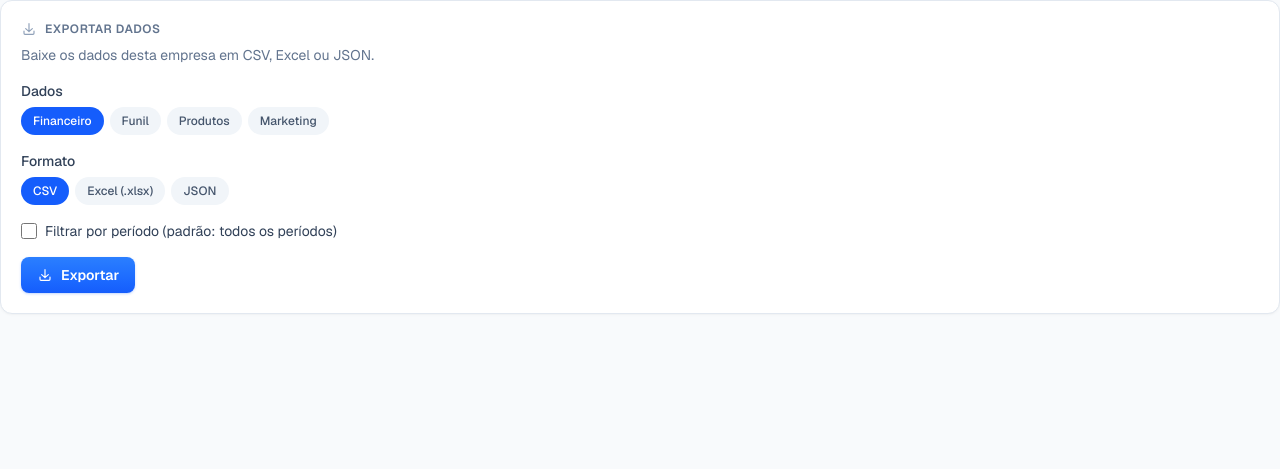
Test: ExportPanel › bloqueia quando a data inicial é depois da data final
The image size is (1280, 469).
Click the checkbox labelled "Filtrar por período (padrão: todos os períodos)".
click(29, 231)  # box [21, 223, 37, 239]
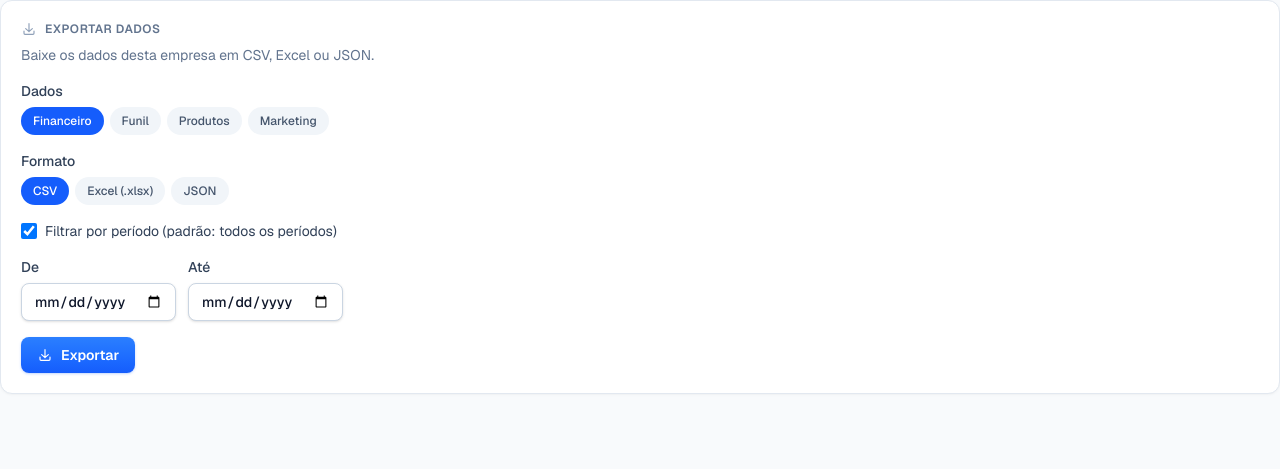
Type "2026-12-31" into the date field labelled "De".
click(98, 302); type("2026-12-31")  # box [21, 283, 176, 321]
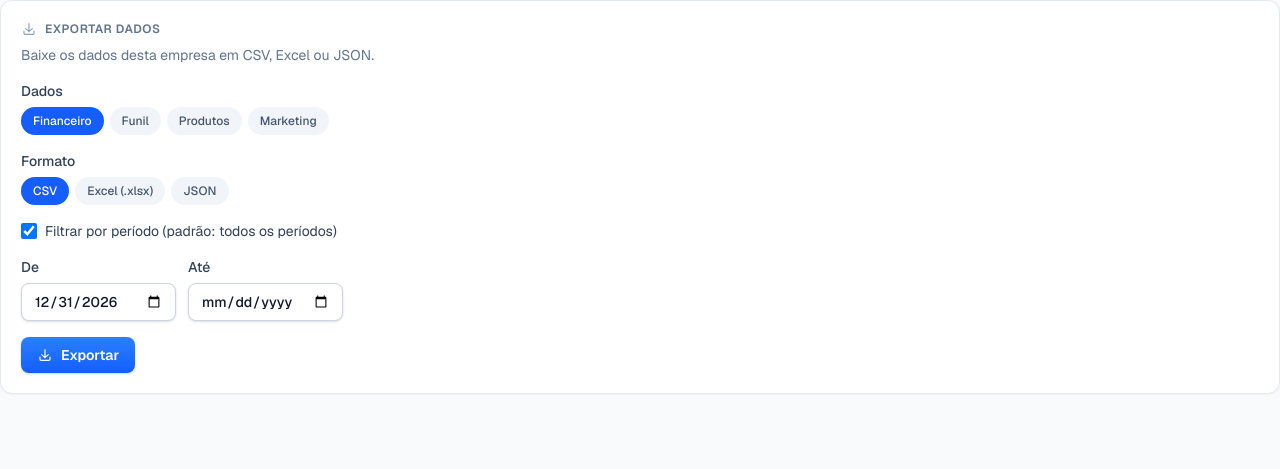
Type "2026-01-01" into the date field labelled "Até".
click(266, 302); type("2026-01-01")  # box [188, 283, 343, 321]
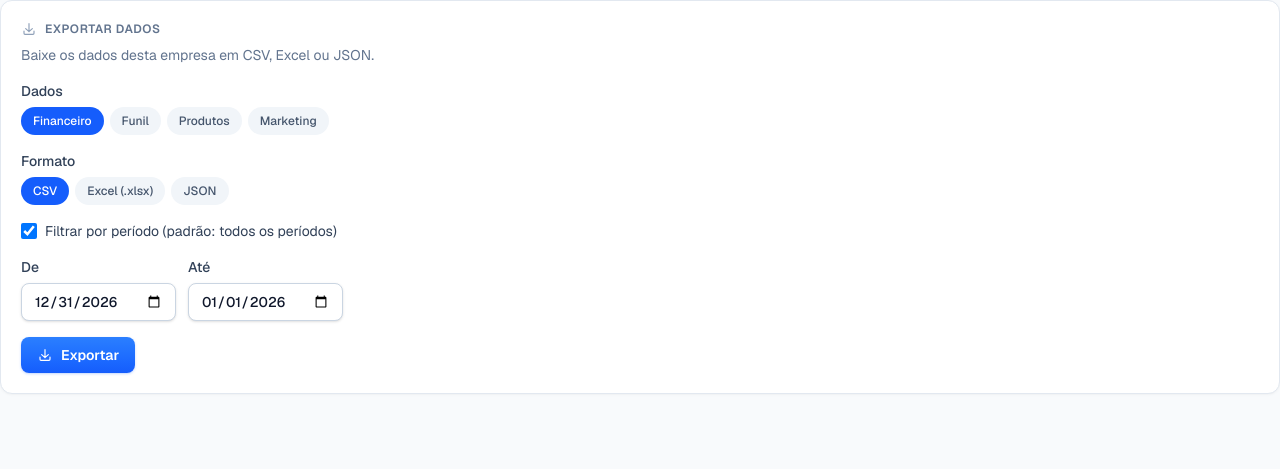
Click the button "Exportar".
click(78, 355)  # box [21, 337, 135, 373]
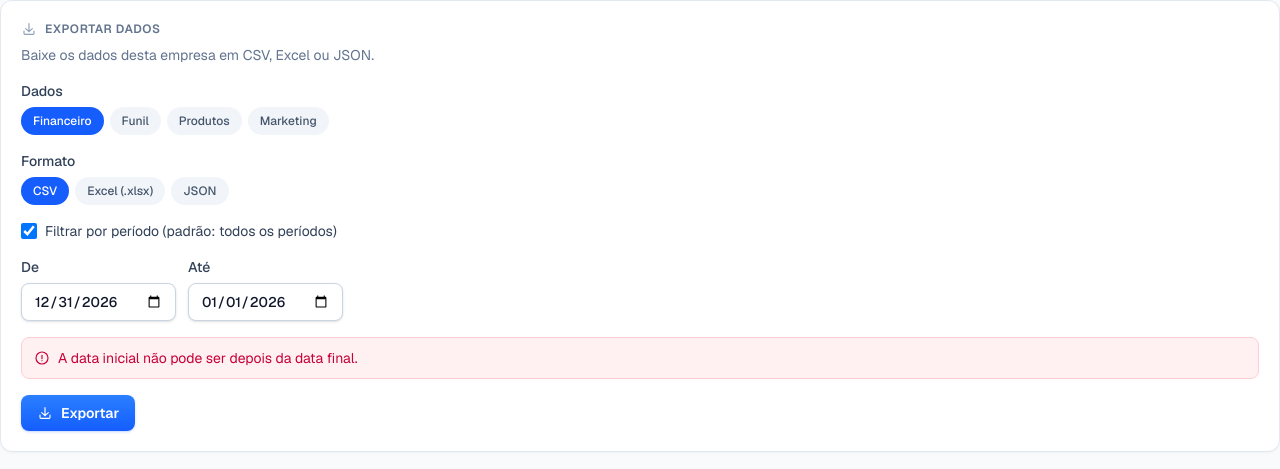
Result: the text "A data inicial não pode ser depois da data final." is shown at [58, 348, 358, 368]
